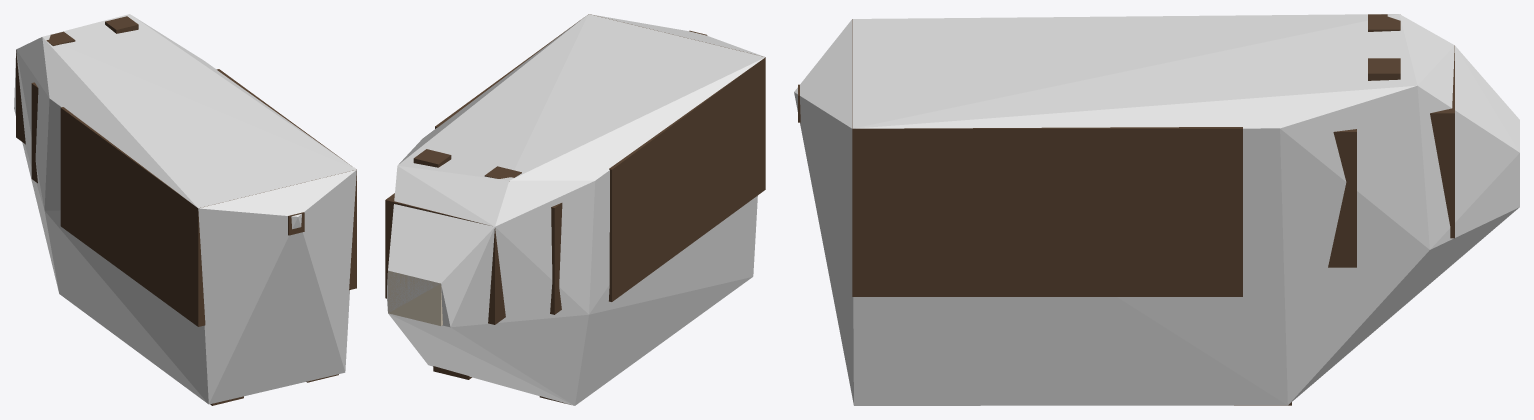
File: boar_valley_1.glb
The picture shows the model from 3 angles, left to right: view 1: azimuth 30°, elevation 25°; view 2: azimuth 150°, elevation 25°; view 3: azimuth 270°, elevation 25°; orthographic projection. The views are drawn at different scales.
Parts seen in each view (by area): view 1: boar_valley_1_col, boar_valley_1; view 2: boar_valley_1_col, boar_valley_1; view 3: boar_valley_1_col, boar_valley_1.
Part boxes in pixels (box(x1,y1,x2,y2)): boar_valley_1_col: box(14, 14, 356, 404); boar_valley_1: box(16, 16, 356, 405); boar_valley_1_col: box(387, 14, 764, 405); boar_valley_1: box(385, 14, 765, 404); boar_valley_1_col: box(794, 14, 1519, 405); boar_valley_1: box(798, 14, 1454, 405).
Size of what is drawn, in the model's own units: 0.5862 by 0.7926 by 1.64.
